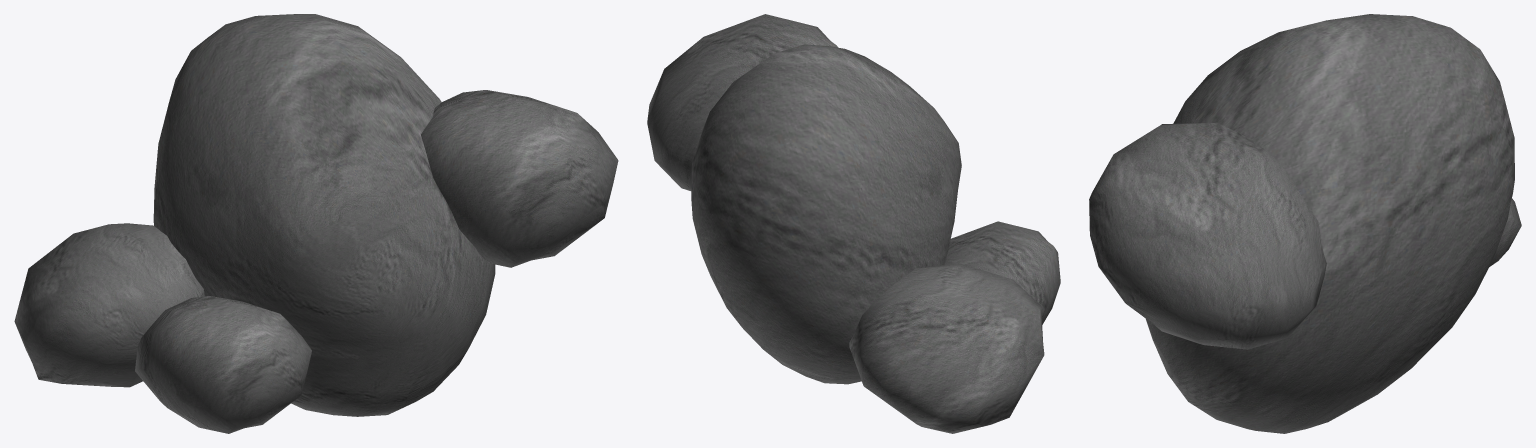
File: StoneClusterShape.dae
The picture shows the model from 3 angles, left to right: view 1: azimuth 30°, elevation 25°; view 2: azimuth 150°, elevation 25°; view 3: azimuth 270°, elevation 25°; orthographic projection. The views are drawn at different scales.
Parts seen in each view (by area): view 1: StoneCluster; view 2: StoneCluster; view 3: StoneCluster.
Part boxes in pixels (<box>): StoneCluster: <box>14,14,618,433</box>; StoneCluster: <box>647,14,1060,433</box>; StoneCluster: <box>1089,14,1521,433</box>.
Size of the model in its own units: 69.08 by 48.24 by 48.08.
